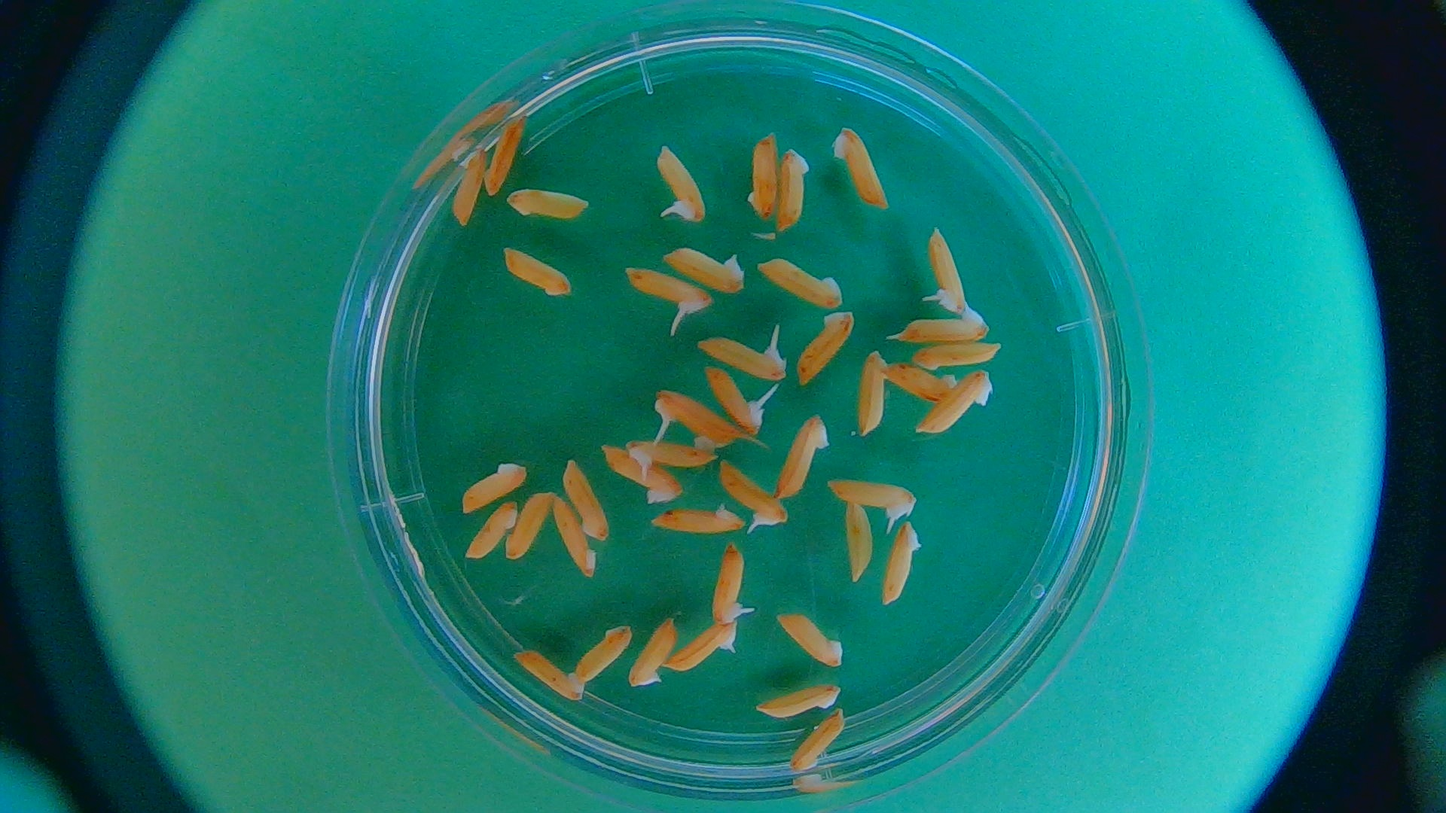no: (596, 440, 688, 510), (908, 367, 996, 440), (767, 602, 851, 676), (828, 126, 892, 215), (753, 254, 844, 315), (556, 454, 616, 543), (505, 646, 587, 711), (779, 402, 831, 503), (548, 492, 599, 584), (795, 312, 856, 388), (788, 703, 847, 778), (496, 245, 576, 300), (880, 352, 961, 406), (625, 614, 677, 695), (502, 179, 592, 225), (660, 248, 743, 297), (575, 620, 633, 690), (743, 120, 781, 226), (485, 108, 527, 202), (503, 489, 553, 566), (455, 461, 529, 513), (653, 498, 746, 538), (459, 501, 517, 563), (776, 139, 811, 236), (879, 516, 917, 604), (907, 343, 1002, 376), (857, 344, 889, 436), (453, 144, 487, 230), (752, 687, 841, 718), (844, 498, 874, 583)
yes: (711, 456, 786, 527), (652, 391, 741, 442), (630, 263, 712, 316), (921, 222, 966, 317), (703, 335, 787, 382), (702, 368, 762, 433), (665, 621, 738, 671), (657, 148, 705, 224), (632, 432, 720, 473), (896, 306, 989, 343), (708, 540, 746, 617), (823, 480, 915, 511)
